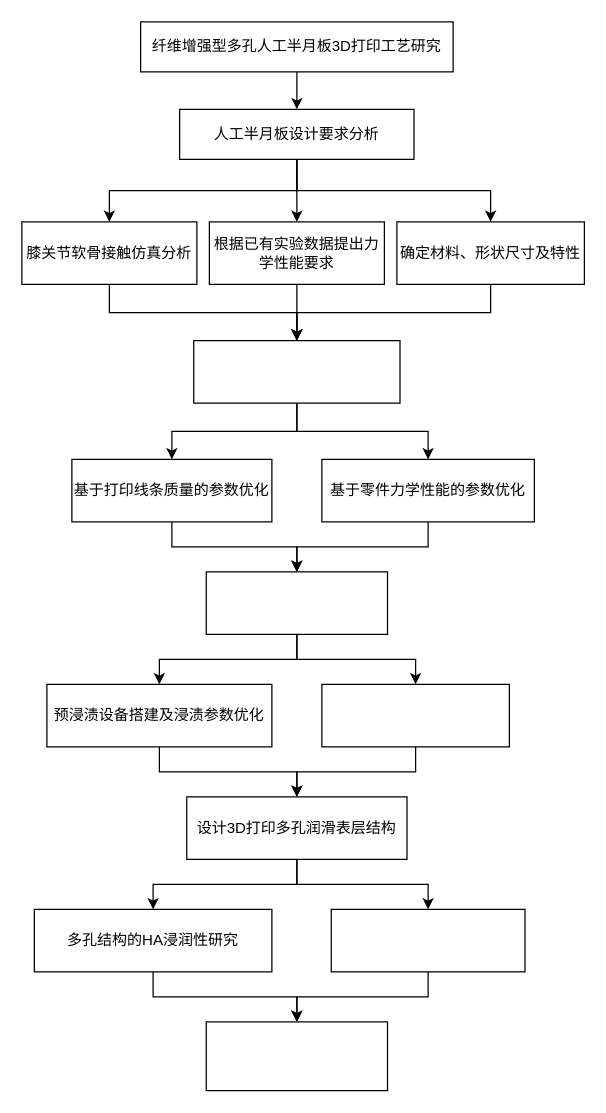
This 606x1113 diagram has some shape labels left out. The shapes that lost their labels are listed below. From the top down, each one's box as (x1, y1, x2, y2) in pixels, then its label:
(192, 339, 400, 403): 基体材料3D打印的参数优化
(205, 571, 388, 634): 设计纤维填埋增强工艺
(321, 683, 509, 747): 浸渍丝填埋增强效果验证
(330, 908, 525, 972): 多孔结构的摩擦性能研究
(205, 1021, 388, 1091): 人工半月板的整体成型
